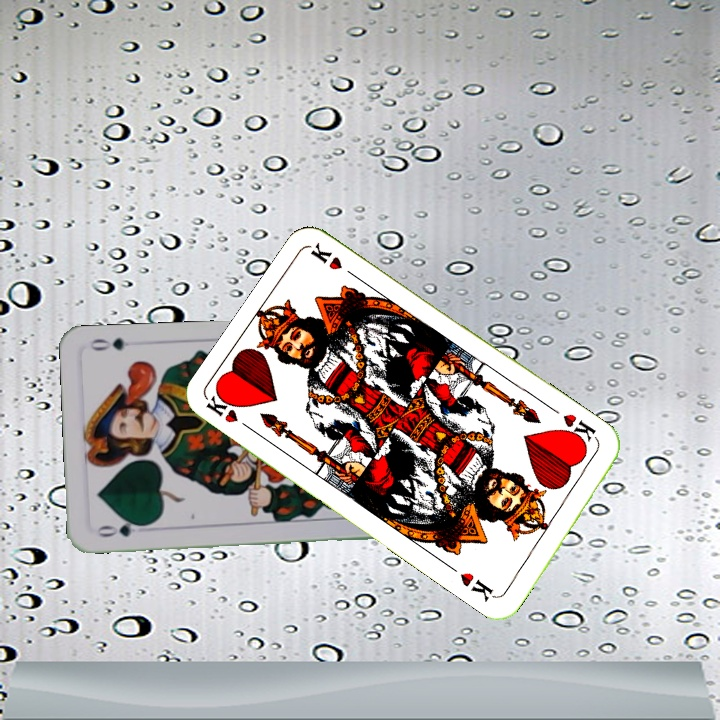GO: (91, 517, 150, 540)
HK: (202, 388, 257, 435), (557, 409, 602, 450)
